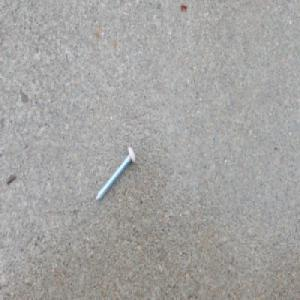Nail: (93, 144, 136, 203)
